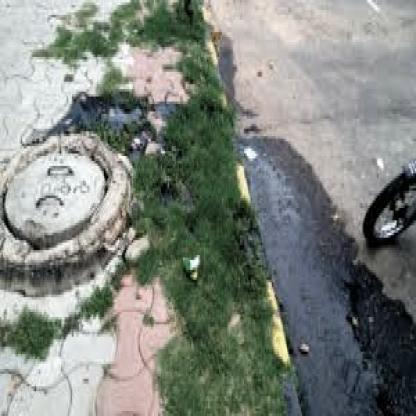manholes: (2, 96, 172, 310)
